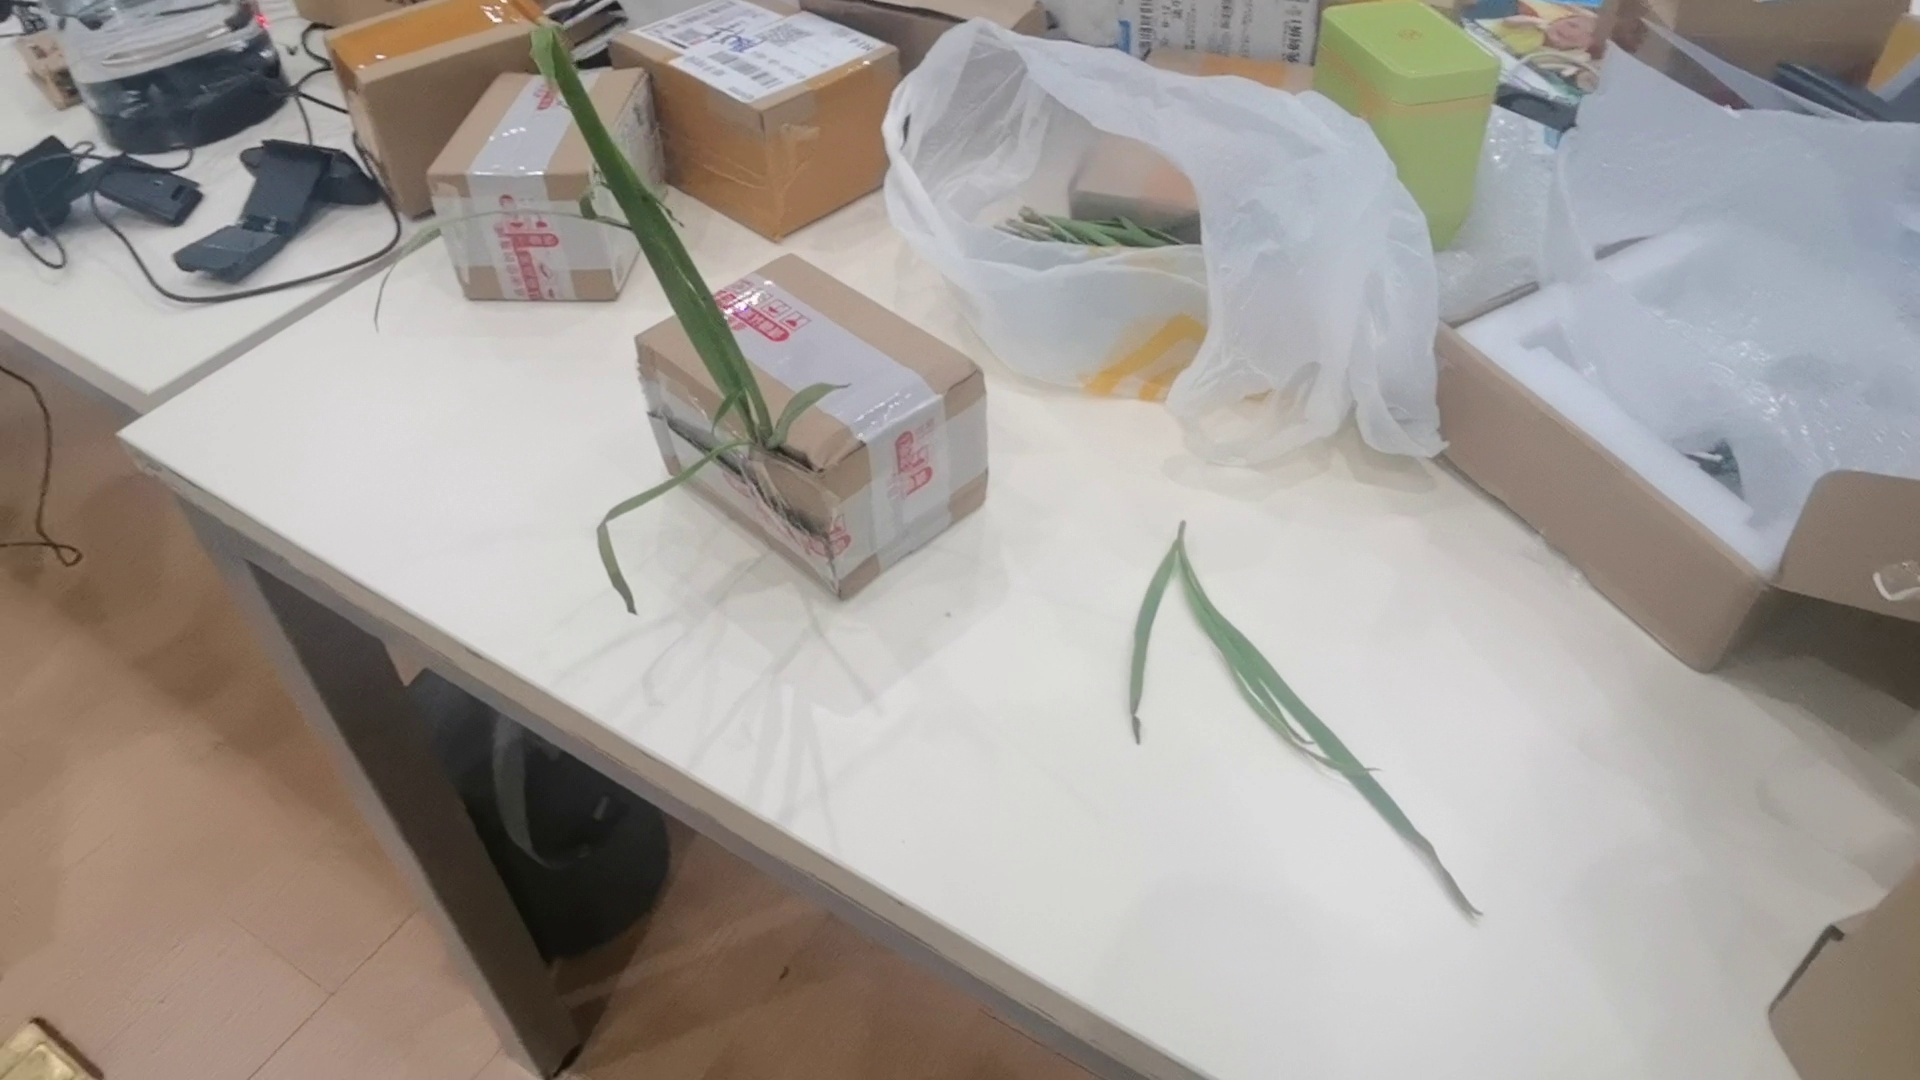chives: (372, 24, 849, 624), (1079, 520, 1498, 930)
